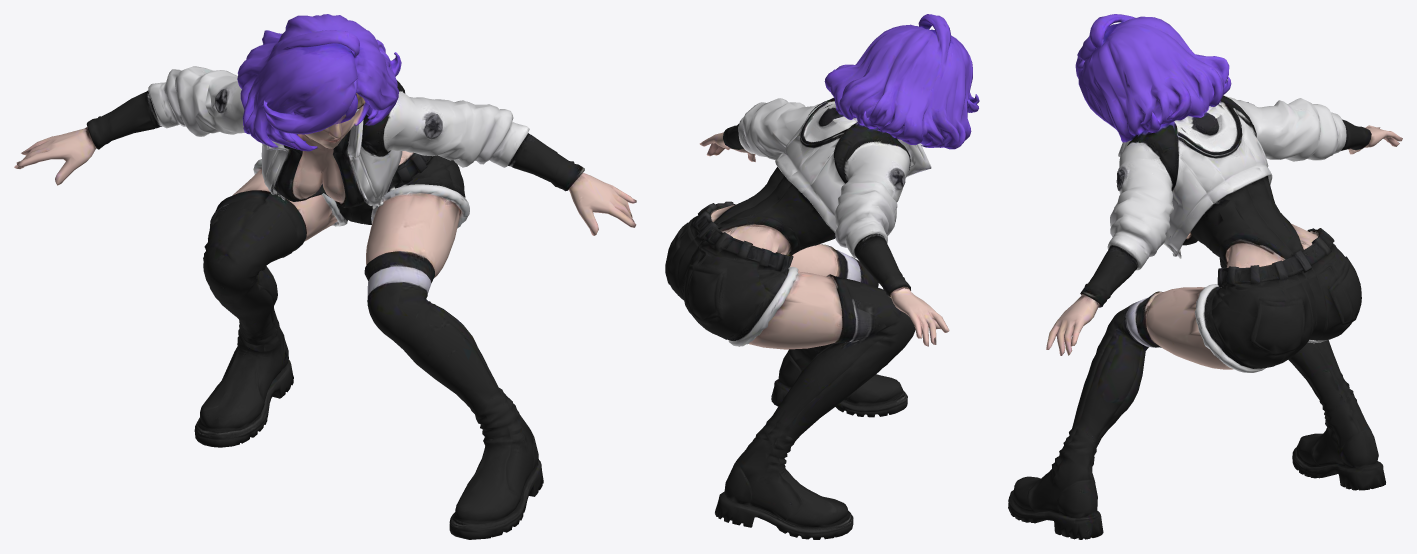
Rendered from nyx_tuck.glb.
The picture shows the model from 3 angles, left to right: view 1: azimuth 30°, elevation 25°; view 2: azimuth 150°, elevation 25°; view 3: azimuth 270°, elevation 25°; orthographic projection. The views are drawn at different scales.
Visible parts, largest first — view 1: Nyx; view 2: Nyx; view 3: Nyx.
Boxes of the visible parts, bbox=[...] form: Nyx: bbox=[14, 14, 636, 539]; Nyx: bbox=[665, 14, 979, 539]; Nyx: bbox=[1008, 14, 1402, 539].
Bounding box in the file's own units: 1.72 × 1.8 × 1.44.
1 material, 1 textured.
